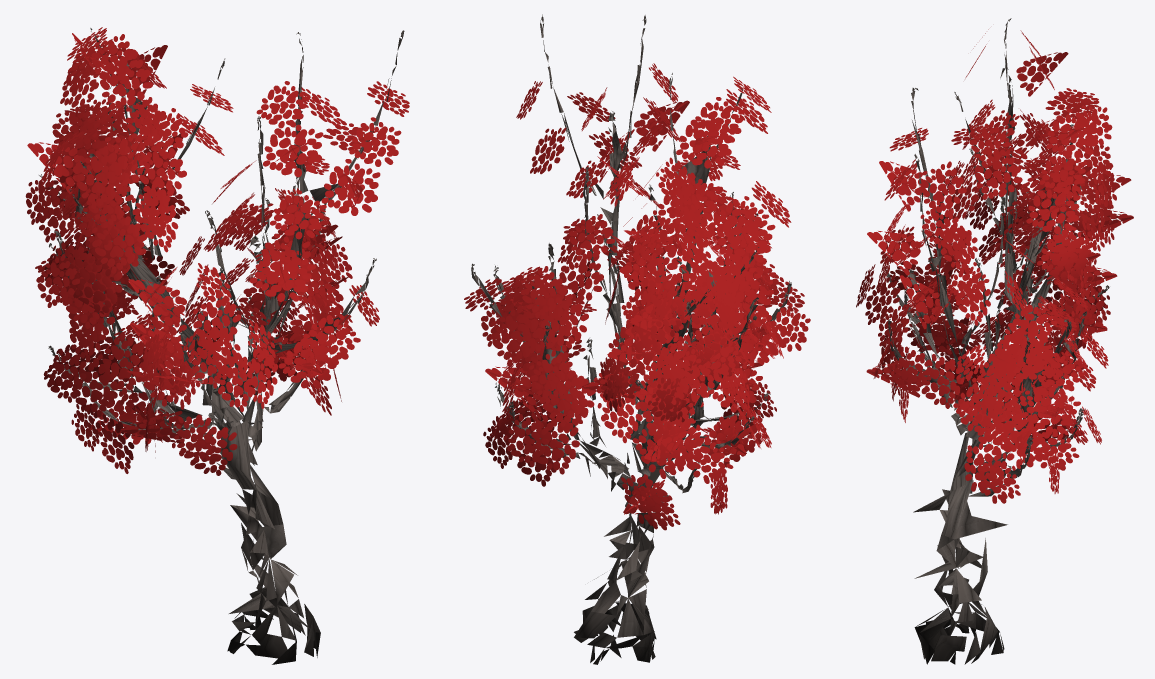
Rendered from TwistedTree_2_lod1.glb.
3 views of the same model, side by side, from view 1: azimuth 30°, elevation 25°; view 2: azimuth 150°, elevation 25°; view 3: azimuth 270°, elevation 25° (orthographic). The views are drawn at different scales.
Visible parts, largest first — view 1: TwistedTree_2; view 2: TwistedTree_2; view 3: TwistedTree_2.
Part boxes in pixels (x1,y1,x2,y2): TwistedTree_2: (25, 27, 409, 664); TwistedTree_2: (464, 14, 810, 664); TwistedTree_2: (856, 18, 1133, 664).
Bounding box in the file's own units: 9.68 × 18.1 × 8.26.
2 materials, 2 textured.
